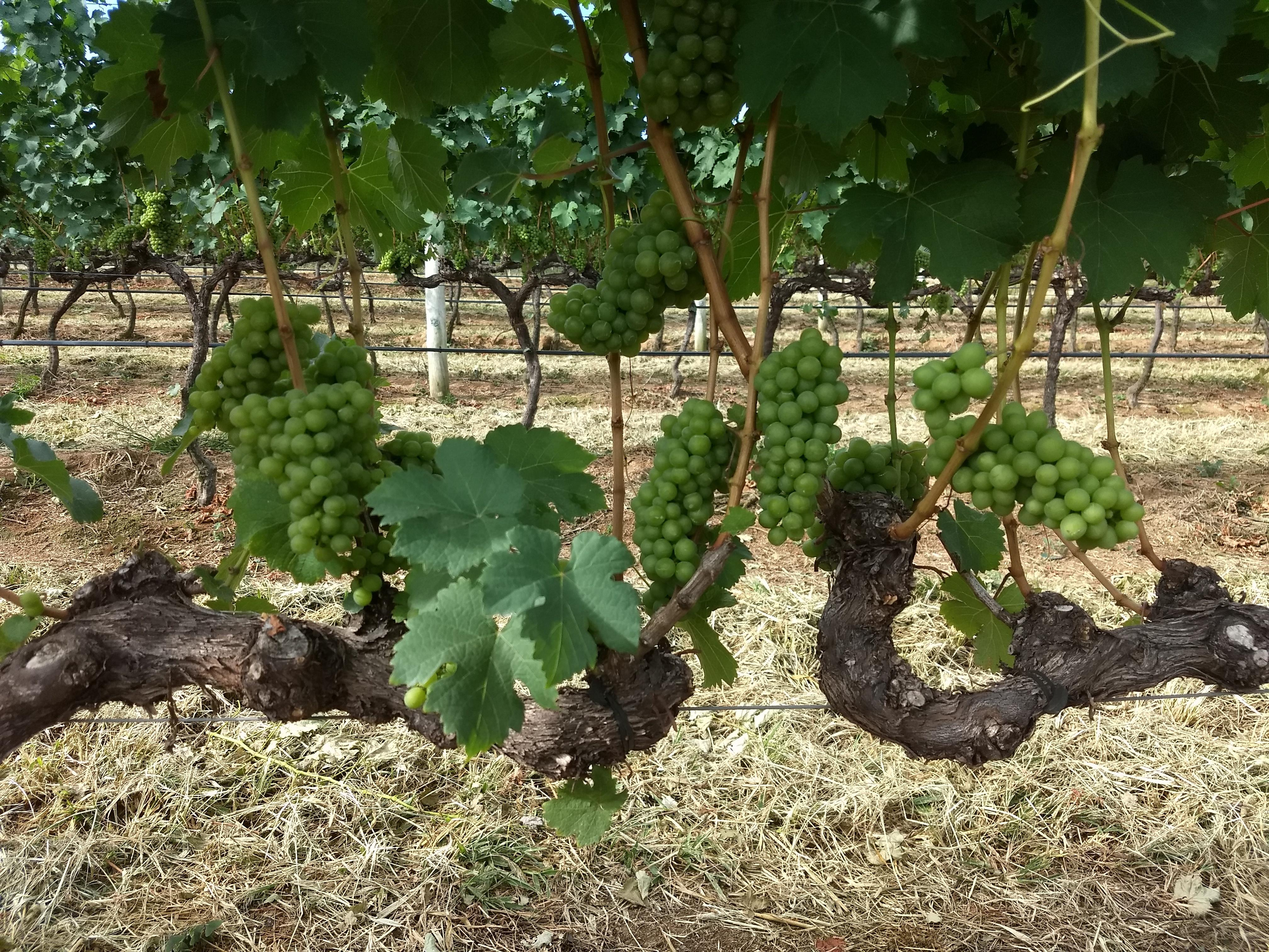leaf: (826, 152, 1019, 303), (393, 579, 555, 755), (483, 525, 640, 682), (736, 0, 908, 142), (1071, 156, 1227, 300), (366, 438, 524, 575), (1133, 34, 1268, 160), (366, 0, 506, 117), (484, 425, 606, 519), (228, 470, 325, 584), (0, 419, 102, 522), (347, 124, 423, 254), (489, 3, 584, 88), (296, 0, 373, 97), (940, 575, 1013, 670), (543, 766, 627, 845), (277, 123, 333, 232), (1215, 206, 1268, 319), (387, 118, 448, 212), (131, 112, 210, 180), (937, 499, 1005, 571), (1032, 0, 1085, 90), (1022, 143, 1071, 237), (676, 613, 738, 687), (1097, 45, 1159, 104), (1100, 3, 1153, 50), (1041, 79, 1082, 114), (720, 506, 755, 534), (997, 582, 1024, 613), (4, 394, 28, 421), (0, 403, 4, 406), (28, 418, 29, 419)
